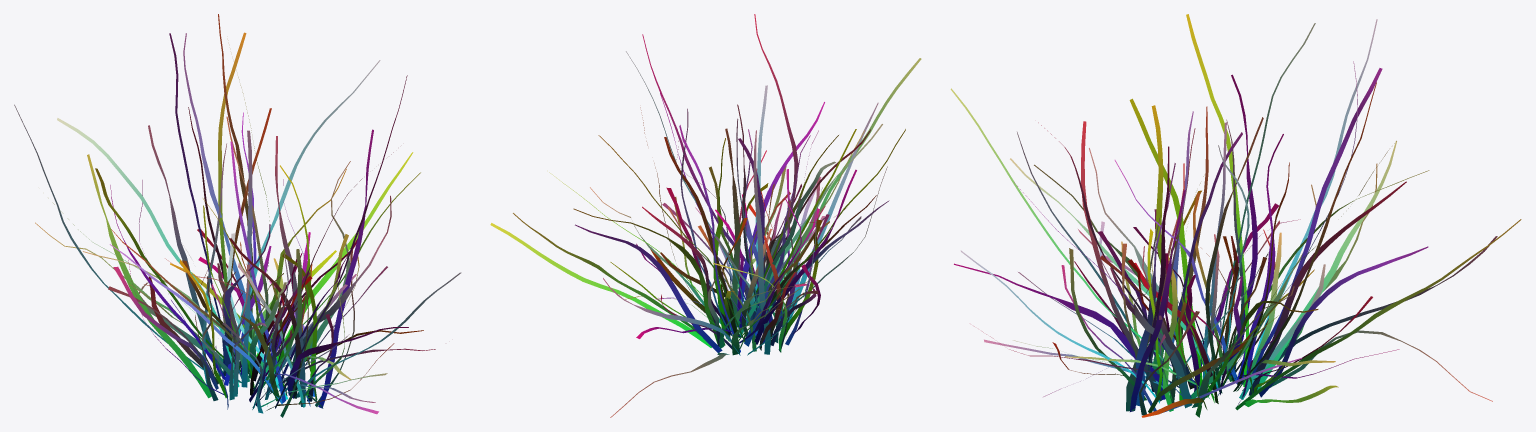
File: Wild_Grass_vlkhcbxia_High_vlkhcbxia_VarD_LOD0.fbx
The picture shows the model from 3 angles, left to right: view 1: azimuth 30°, elevation 25°; view 2: azimuth 150°, elevation 25°; view 3: azimuth 270°, elevation 25°; orthographic projection. The views are drawn at different scales.
Parts seen in each view (by area): view 1: _6fsx_VarD_LOD0; view 2: _6fsx_VarD_LOD0; view 3: _6fsx_VarD_LOD0.
Boxes of the visible parts, x1,y1,x2,y2 form: _6fsx_VarD_LOD0: [14, 14, 461, 417]; _6fsx_VarD_LOD0: [490, 14, 921, 417]; _6fsx_VarD_LOD0: [950, 14, 1521, 417].
Bounding box in the file's own units: 35.88 × 27.21 × 41.47.
